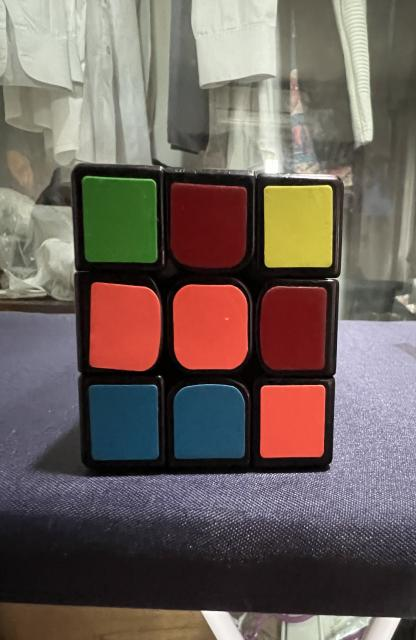Blue: (173, 384, 245, 459), (89, 385, 159, 460)
Green: (82, 176, 158, 264)
Orange: (172, 284, 248, 370), (89, 282, 161, 371), (260, 385, 326, 458)
Red: (170, 182, 247, 269), (260, 286, 327, 370)
Yellow: (263, 185, 333, 268)
